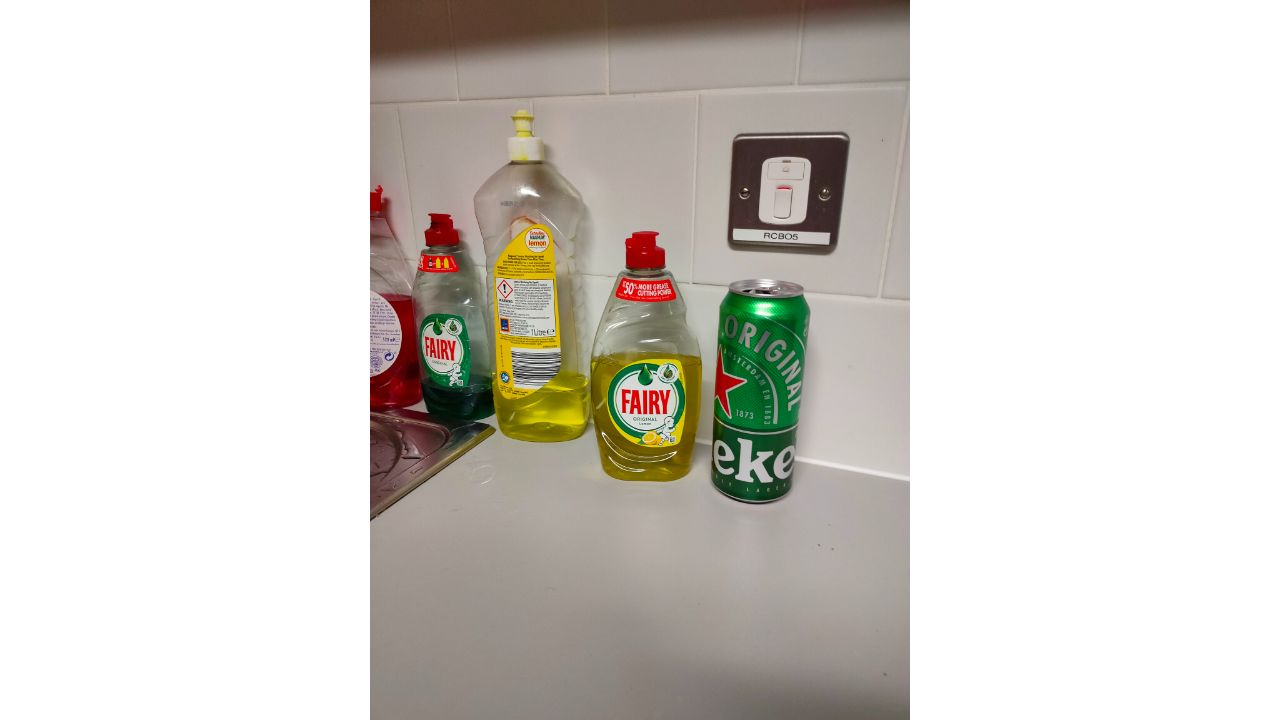Can: (709, 280, 812, 506)
